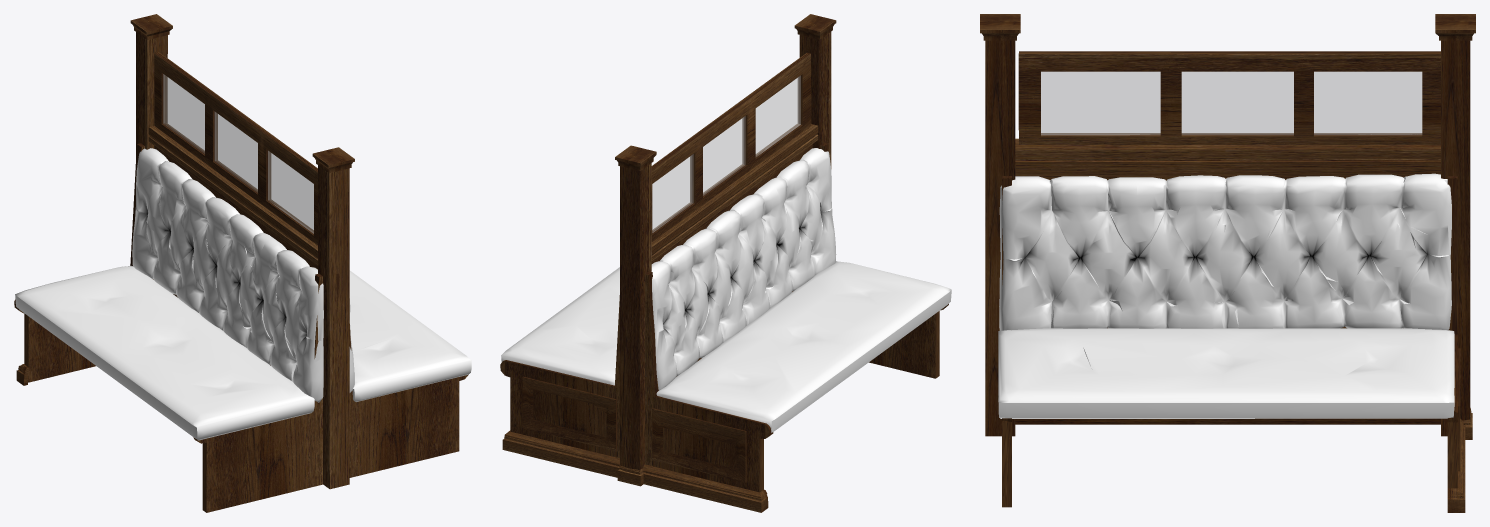
File: Furniture 1.FBX
3 views of the same model, side by side, from view 1: azimuth 30°, elevation 25°; view 2: azimuth 150°, elevation 25°; view 3: azimuth 270°, elevation 25° (orthographic). The views are drawn at different scales.
Parts seen in each view (by area): view 1: Furniture 1; view 2: Furniture 1; view 3: Furniture 1.
Boxes of the visible parts, <box> form: Furniture 1: <box>14,14,471,512</box>; Furniture 1: <box>500,14,951,512</box>; Furniture 1: <box>980,14,1475,512</box>.
Size of the model in its own units: 53.07 by 60.35 by 65.96.
